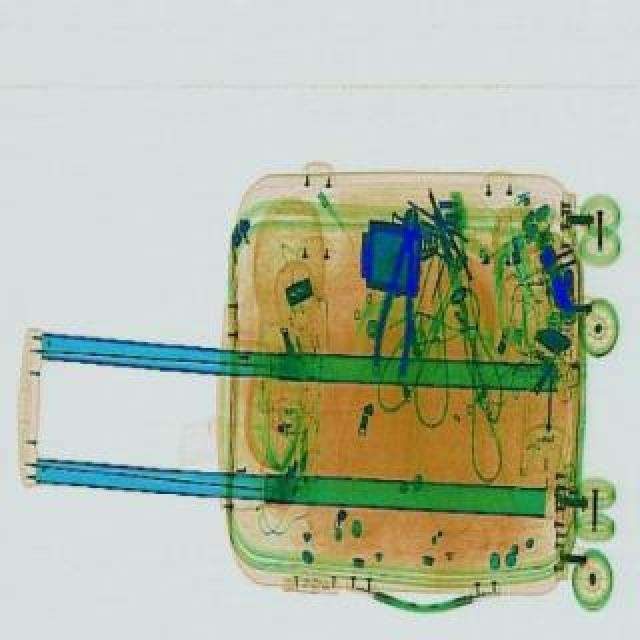wrench: (370, 202, 430, 374)
